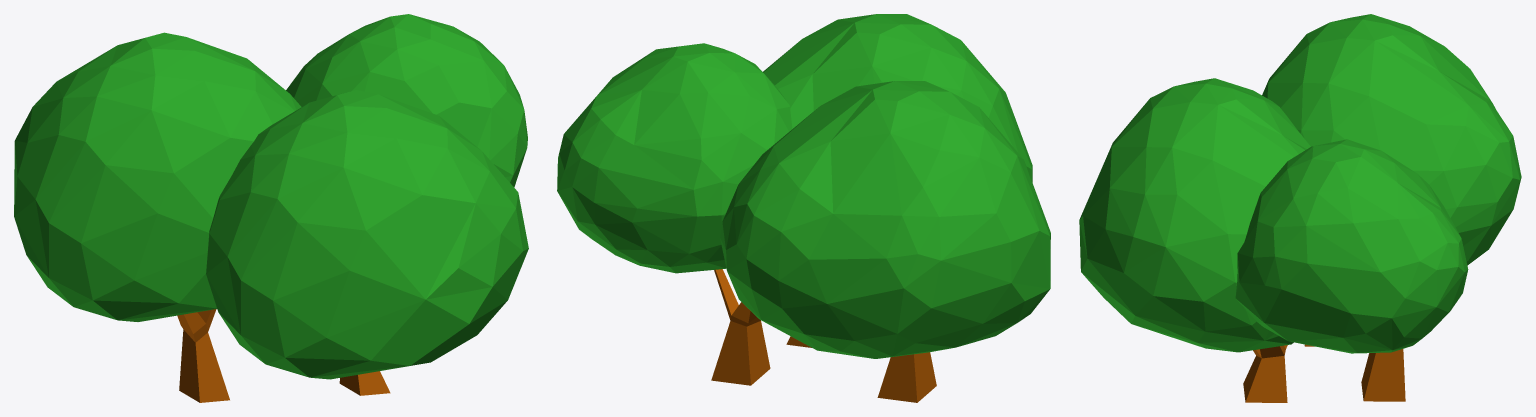
The model's file is TreeLow_BranchA.fbx.
3 renders of one model, left to right at view 1: azimuth 30°, elevation 25°; view 2: azimuth 150°, elevation 25°; view 3: azimuth 270°, elevation 25°, orthographic. The views are drawn at different scales.
Visible parts, largest first — view 1: TreeLow_BranchA; view 2: TreeLow_BranchA; view 3: TreeLow_BranchA.
Part boxes in pixels (x1,y1,x2,y2): TreeLow_BranchA: (14, 14, 528, 402); TreeLow_BranchA: (557, 14, 1050, 402); TreeLow_BranchA: (1079, 14, 1521, 402).
Bounding box in the file's own units: 5.2 × 4.65 × 3.56.
